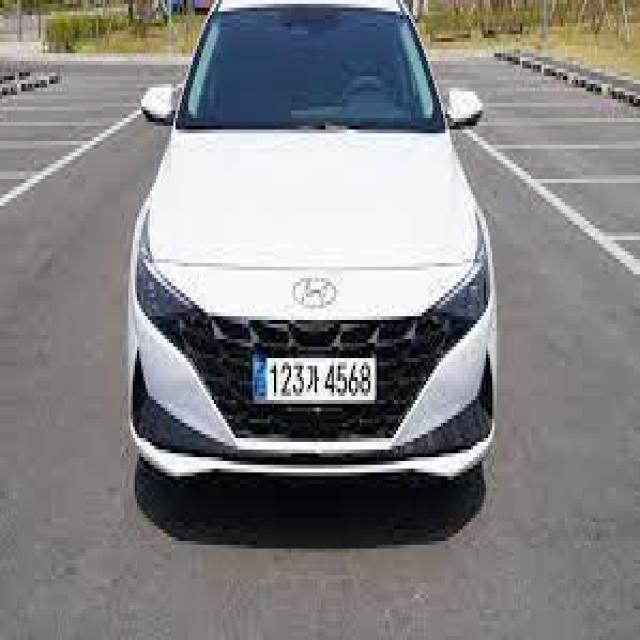car: (122, 1, 502, 506)
illegal_plate: (252, 353, 380, 410)
